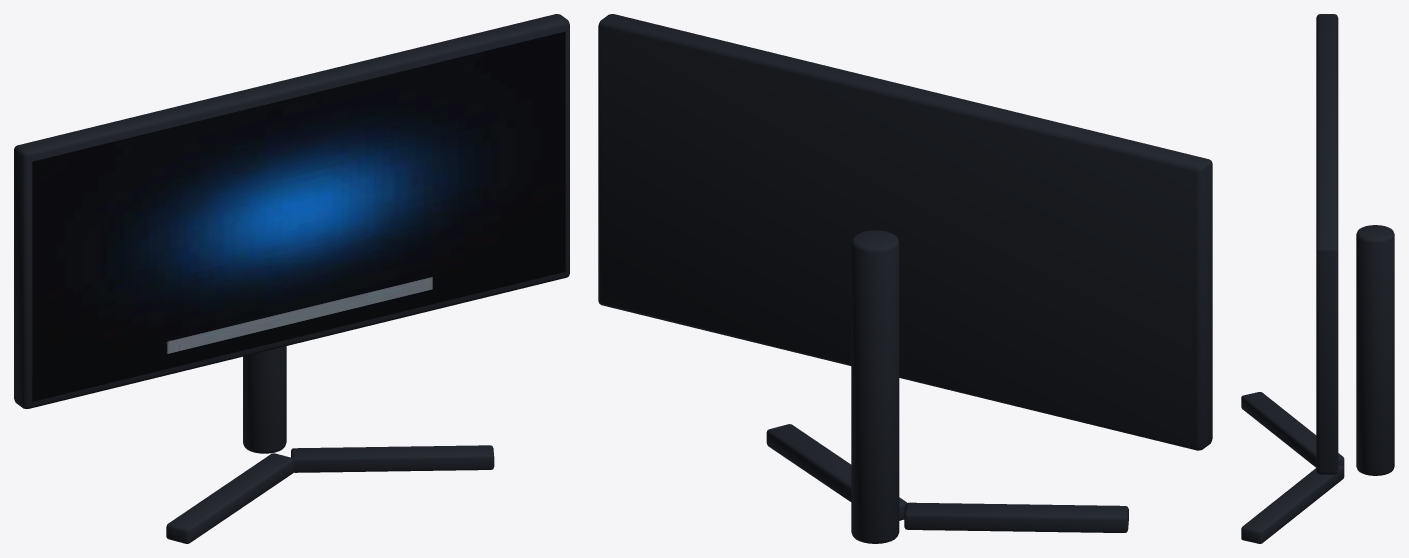
Rendered from gaming-monitor-2b2bea08884d.glb.
3 views of the same model, side by side, from view 1: azimuth 30°, elevation 25°; view 2: azimuth 150°, elevation 25°; view 3: azimuth 270°, elevation 25° (orthographic). The views are drawn at different scales.
Parts seen in each view (by area): view 1: Screen_Surface, Mesh_Matte_Carbon; view 2: Mesh_Matte_Carbon; view 3: Mesh_Matte_Carbon.
Part boxes in pixels (bbox=[...]): Screen_Surface: bbox=[32, 31, 565, 401]; Mesh_Matte_Carbon: bbox=[14, 14, 569, 543]; Mesh_Matte_Carbon: bbox=[598, 14, 1212, 543]; Mesh_Matte_Carbon: bbox=[1241, 14, 1394, 543].
Size of the model in its own units: 0.81 by 0.5515 by 0.2229.
Materials: 2 (1 with a texture image).
